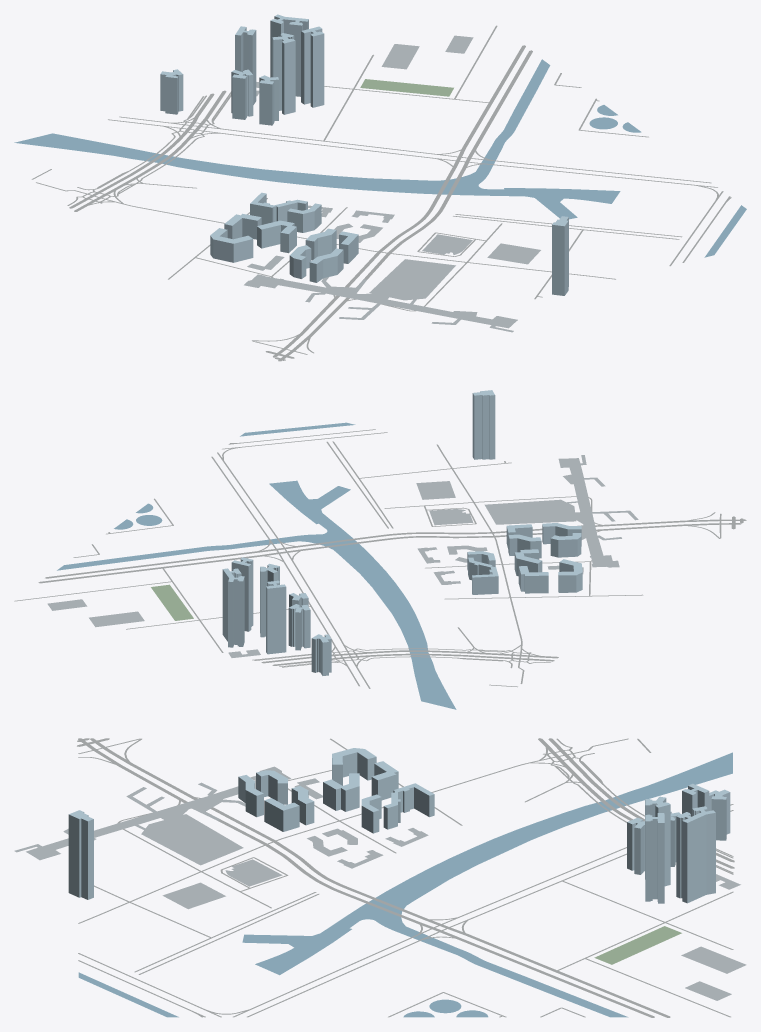
File: -15_-3-known-coarse.glb
The picture shows the model from 3 angles, top to bottom: view 1: azimuth 30°, elevation 25°; view 2: azimuth 150°, elevation 25°; view 3: azimuth 270°, elevation 25°; orthographic projection. The views are drawn at different scales.
Bounding box in the file's own units: 1006 × 135 × 1114.
